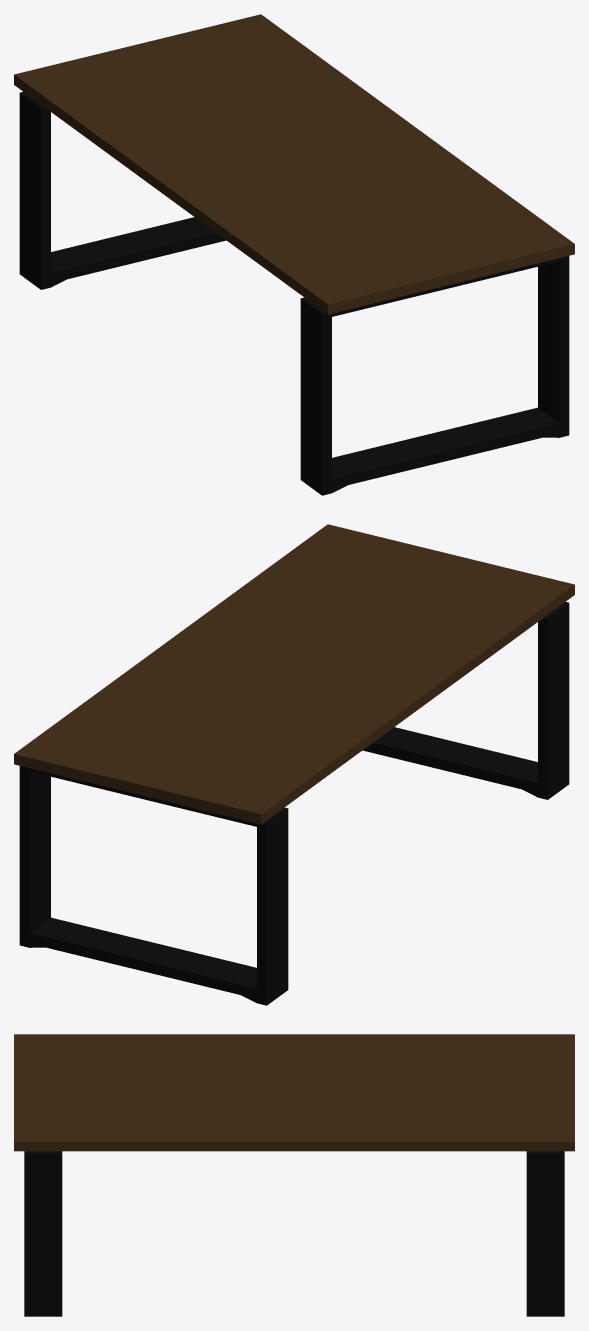
Rendered from TableB1.glb.
3 views of the same model, one above another, from view 1: azimuth 30°, elevation 25°; view 2: azimuth 150°, elevation 25°; view 3: azimuth 270°, elevation 25° (orthographic). The views are drawn at different scales.
Visible parts, largest first — view 1: Cube; view 2: Cube; view 3: Cube.
Part boxes in pixels (left/top/right/bottom): Cube: left=14, top=14, right=574, bottom=495; Cube: left=14, top=524, right=574, bottom=1005; Cube: left=14, top=1034, right=574, bottom=1316.
Size of the model in its own units: 1 by 0.7564 by 2.2.
